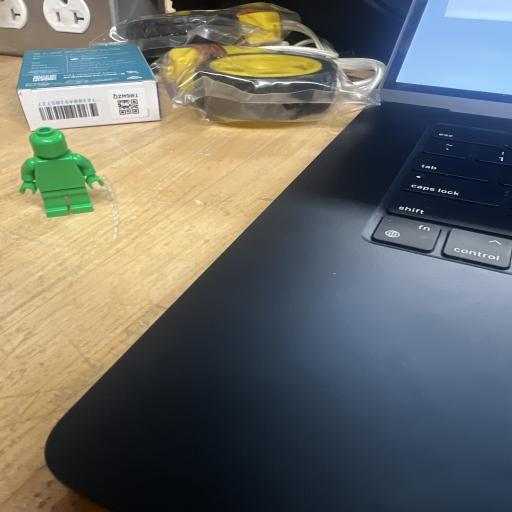green-lego-minifigure-detector: (19, 127, 104, 217)
